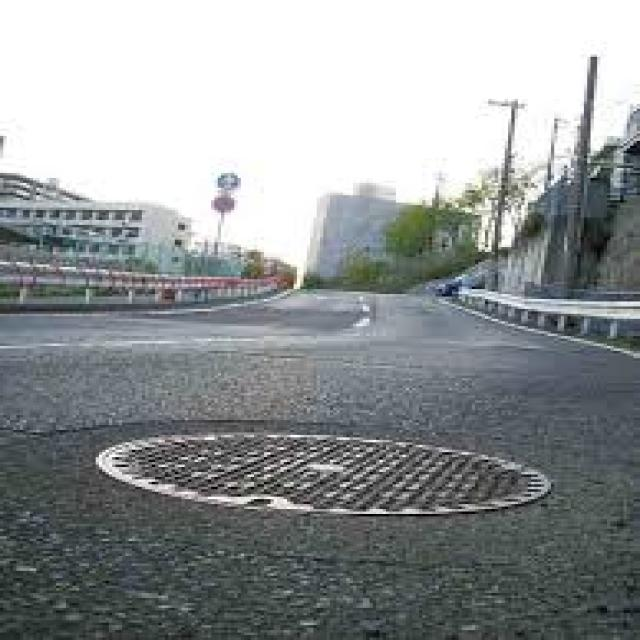manhole: (94, 433, 549, 513)
